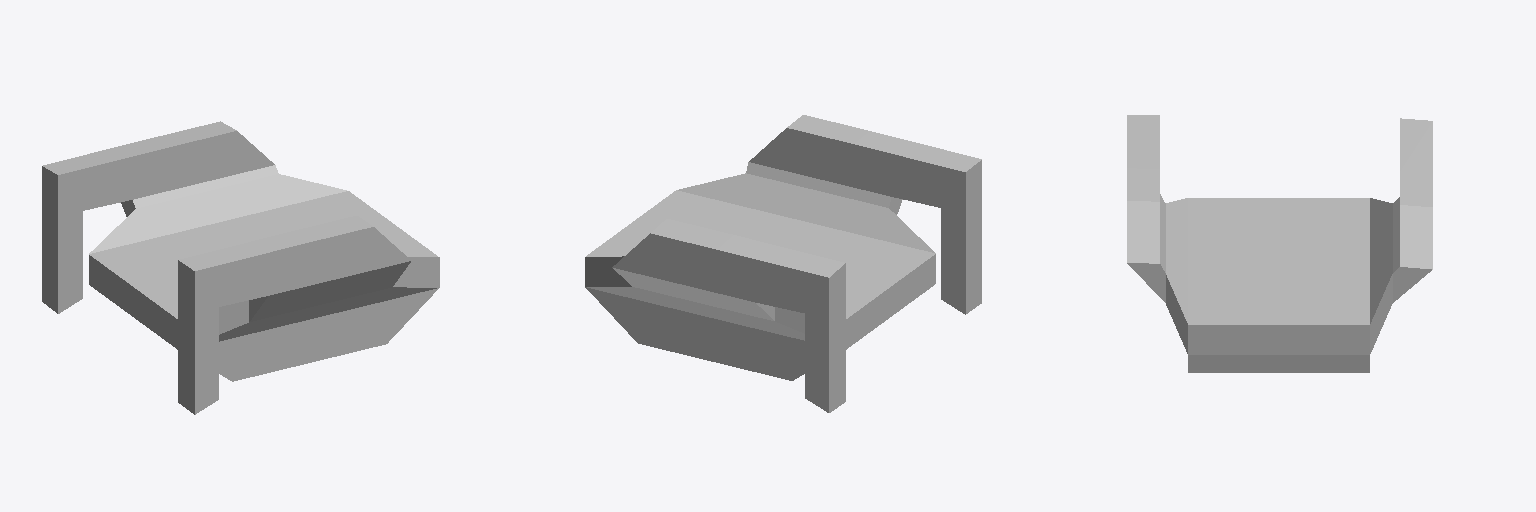
Rendered from ModCatwalk2.obj.
The picture shows the model from 3 angles: view 1: azimuth 30°, elevation 25°; view 2: azimuth 150°, elevation 25°; view 3: azimuth 270°, elevation 25°; orthographic projection.
Visible parts, largest first — view 1: ModCatwalk2; view 2: ModCatwalk2; view 3: ModCatwalk2.
Boxes of the visible parts, x1,y1,x2,y2 form: ModCatwalk2: [42, 121, 439, 414]; ModCatwalk2: [585, 115, 981, 412]; ModCatwalk2: [1127, 115, 1432, 372].
Size of the model in its own units: 9.51 by 4.96 by 9.15.